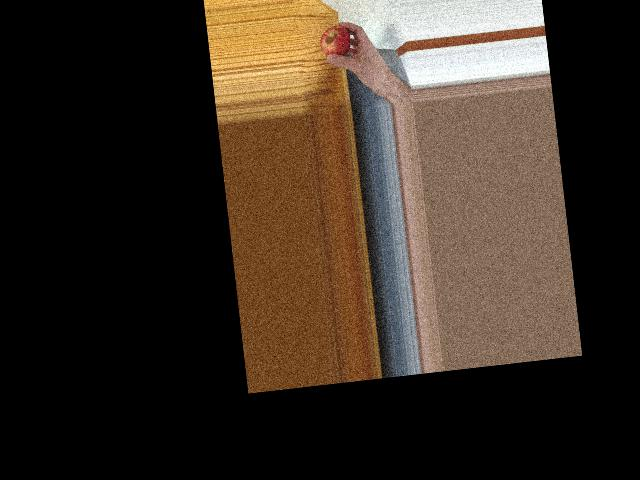apple: (317, 22, 353, 62)
